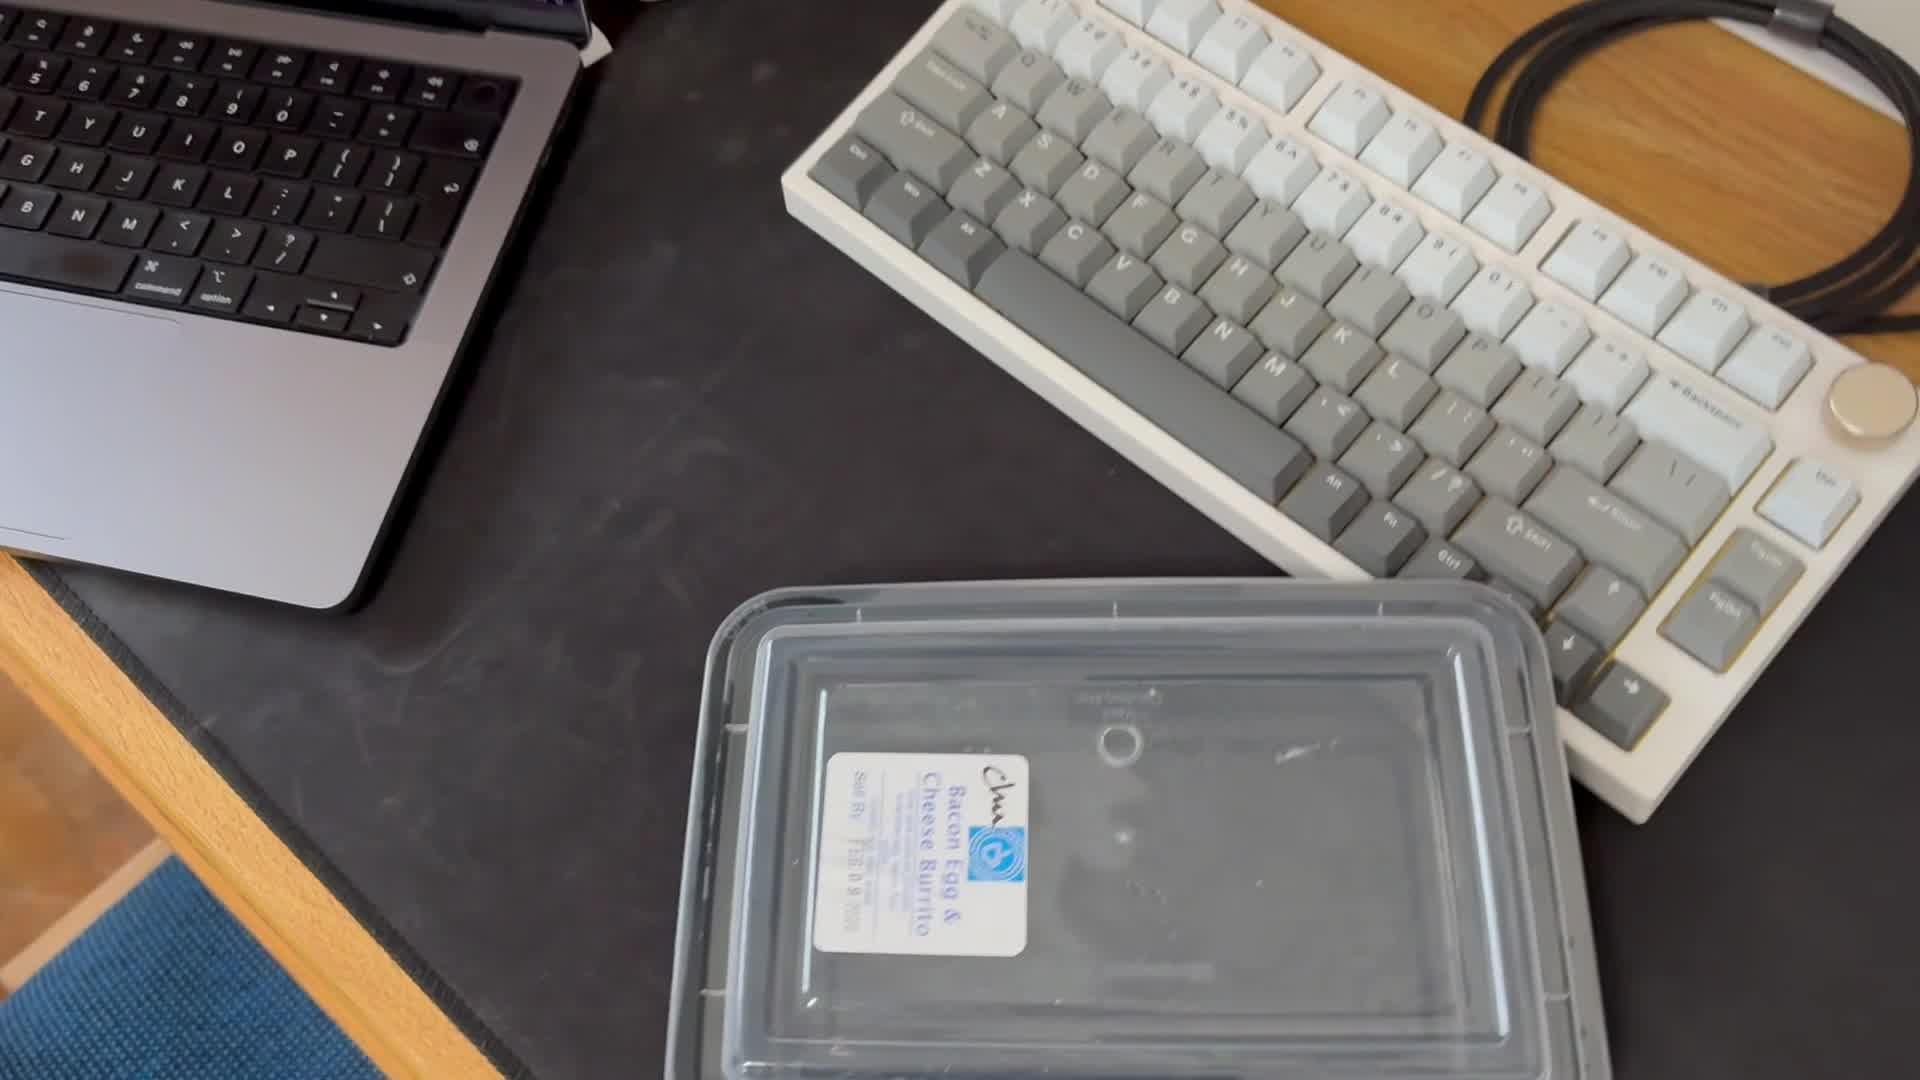lp_cup_lids: (647, 571, 1619, 1080)
